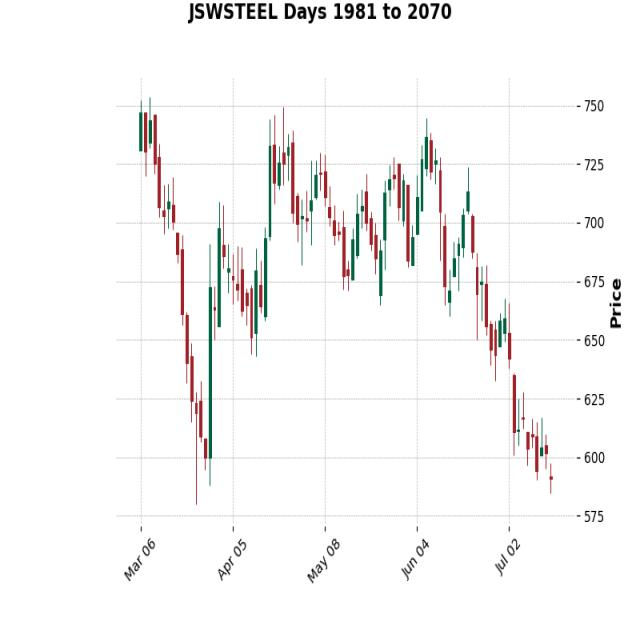Descending Triangle: (445, 159, 574, 480)
